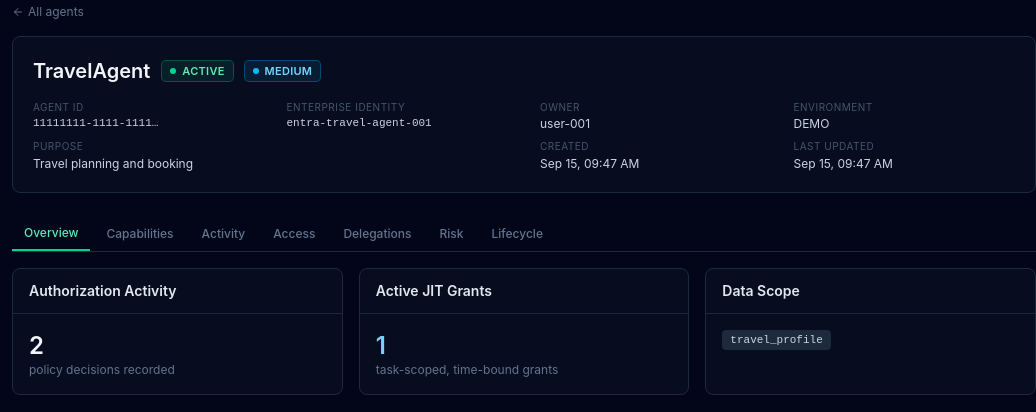
Test case: Agent detail › access tab lists real JIT grants with expiry
This screenshot has width=1036, height=412.
Check: the text "Travel planning and booking" is shown, box left=33, top=156, right=193, bottom=171
What coordinates should you click on to do the following:
click the button "Access"
I would click on:
 (294, 234)
Its box is left=261, top=217, right=328, bottom=251.
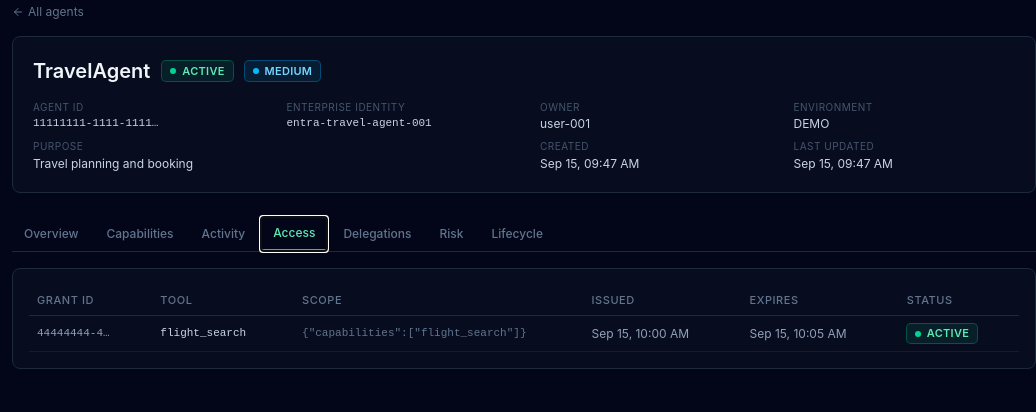
Check: the text "ACTIVE" is shown, box left=162, top=61, right=233, bottom=81
Check: the text "flight_search" is shown, box left=152, top=316, right=294, bottom=352
Check: the column heading "Expires" is shown, box left=742, top=285, right=899, bottom=316
